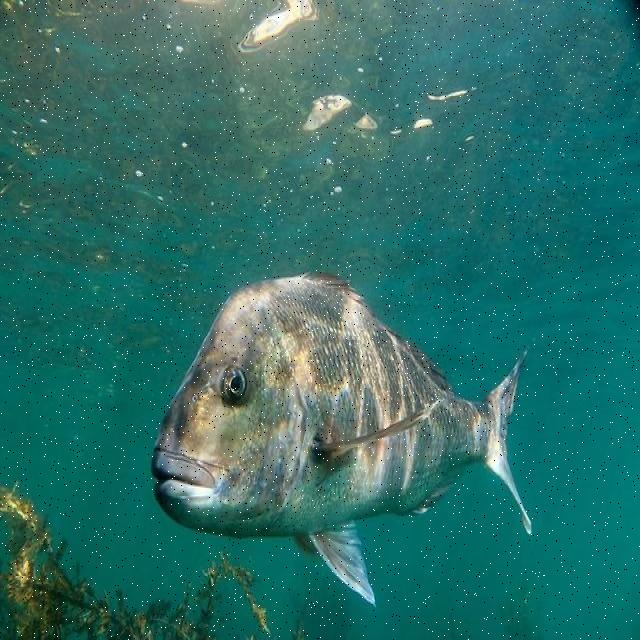aquatic plants: (0, 479, 273, 638)
fish: (152, 272, 536, 605)
